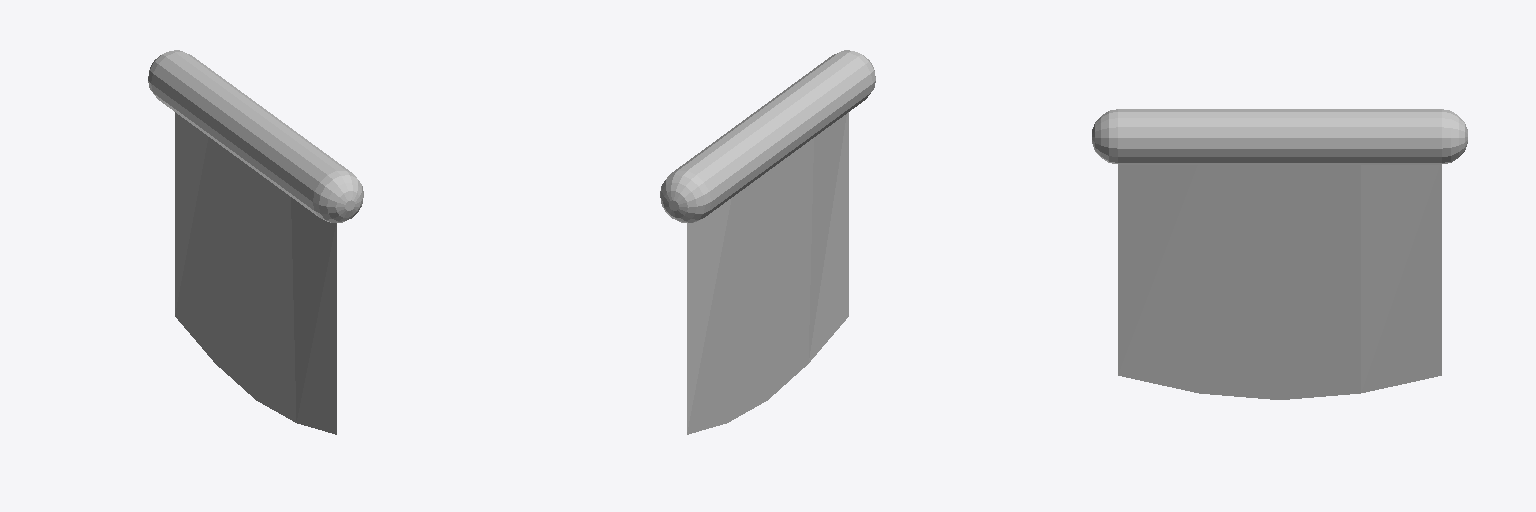
Rendered from VineSegment.obj.
The picture shows the model from 3 angles: view 1: azimuth 30°, elevation 25°; view 2: azimuth 150°, elevation 25°; view 3: azimuth 270°, elevation 25°; orthographic projection.
Parts seen in each view (by area): view 1: Cube3, Cylinder1; view 2: Cube3, Cylinder1; view 3: Cube3, Cylinder1.
Boxes of the visible parts, x1,y1,x2,y2 form: Cube3: [175, 112, 336, 434]; Cylinder1: [148, 50, 363, 222]; Cube3: [687, 112, 848, 434]; Cylinder1: [660, 50, 875, 222]; Cube3: [1118, 165, 1441, 399]; Cylinder1: [1092, 109, 1467, 164].
Bounding box in the file's own units: 0.344 × 1.97 × 2.33.